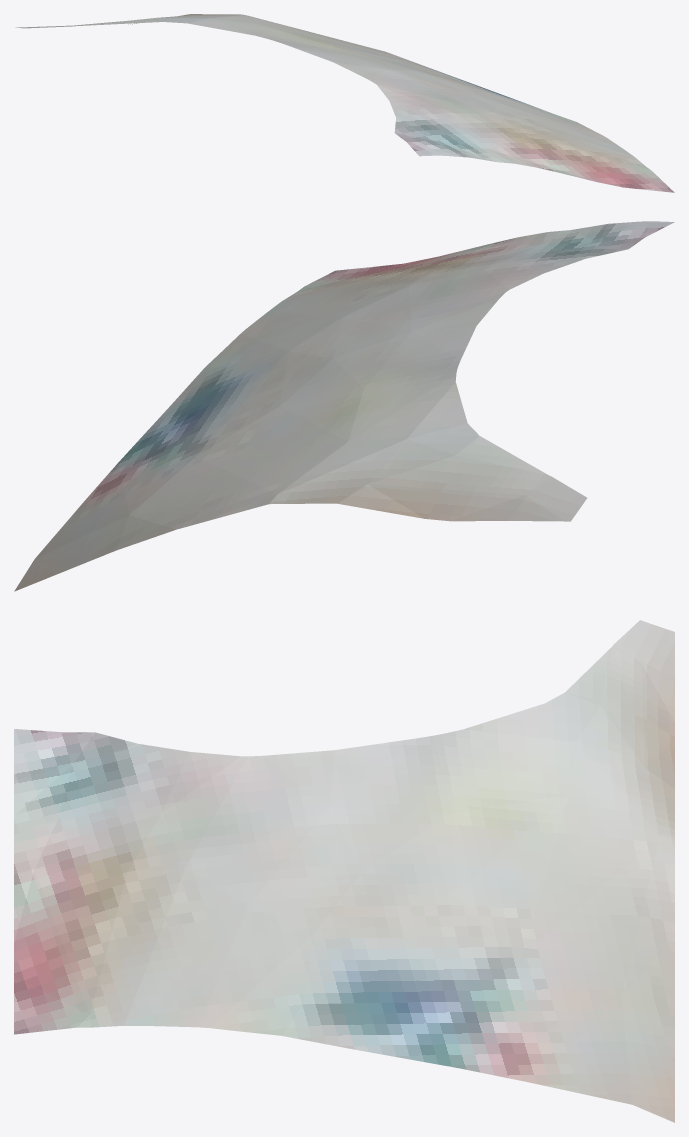
The picture shows the model from 3 angles, top to bottom: view 1: azimuth 30°, elevation 25°; view 2: azimuth 150°, elevation 25°; view 3: azimuth 270°, elevation 25°; orthographic projection. The views are drawn at different scales.
Bounding box in the file's own units: 42.87 × 16 × 42.87.
1 material, 1 textured.
